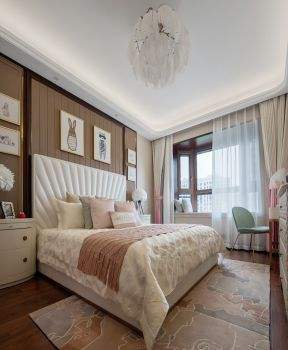床: (36, 223, 222, 321)
枕头: (50, 197, 142, 231)
灯: (127, 9, 191, 92)
